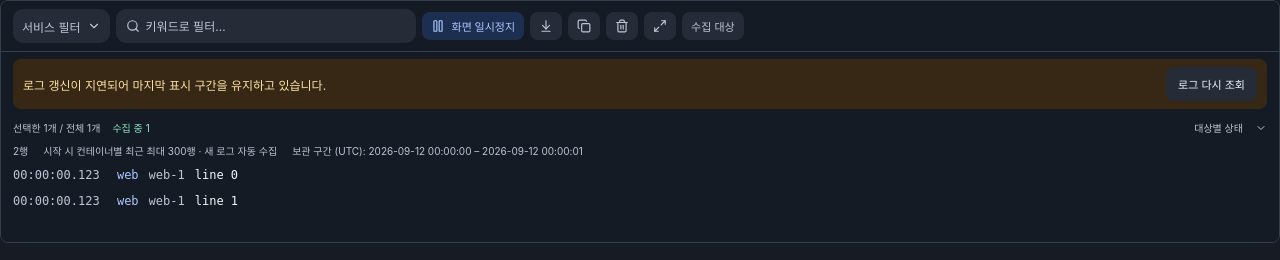
Test: project log query deadlines › preserves existing rows after ten seconds, requires manual retry, and discards the late response
Expected: the text "로그 갱신이 지연되어 마지막 표시 구간을 유지하고 있습니다." is shown, [23,76,326,92]
Expected: the text "line 0" is shown, [195,168,238,182]
Click the button "로그 다시 조회" at (1212, 84), box [1166,67,1257,101]
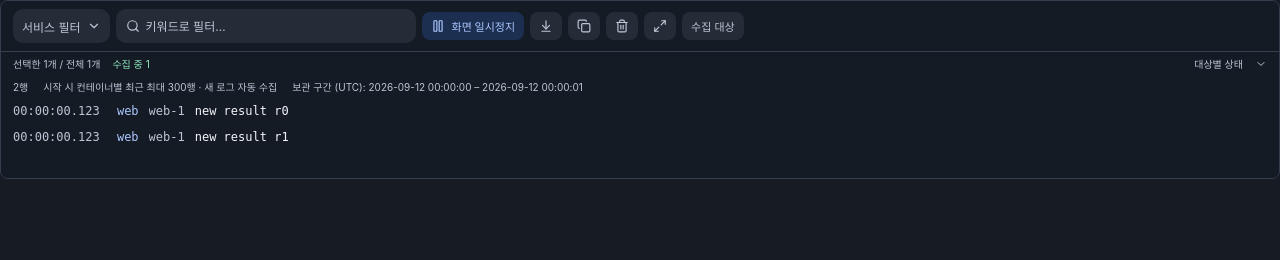
Expected: the text "line 0" is gone
Expected: the text "new result r0" is shown, [195,104,289,118]
